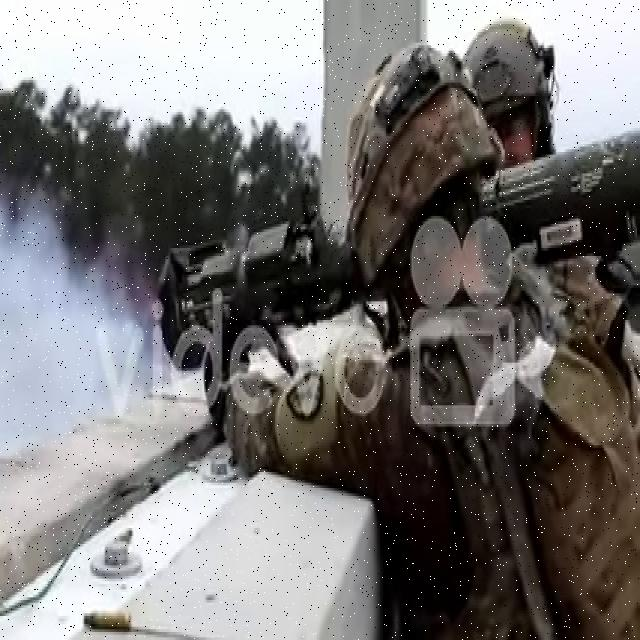bazooka: (148, 113, 640, 396)
